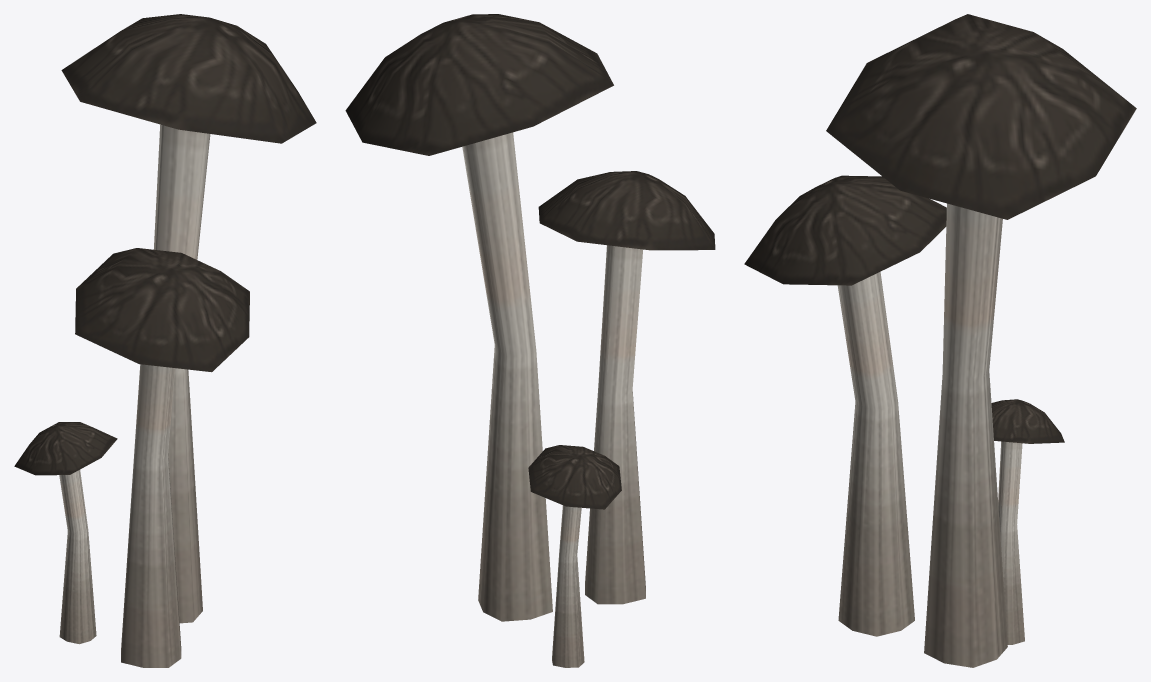
The model's file is farm_mushroom_2.fbx.
3 views of the same model, side by side, from view 1: azimuth 30°, elevation 25°; view 2: azimuth 150°, elevation 25°; view 3: azimuth 270°, elevation 25° (orthographic). The views are drawn at different scales.
Parts seen in each view (by area): view 1: CA_OPE_Props_Fazenda_Cogumelo_002_B, CA_OPE_Props_Fazenda_Cogumelo_002_A, CA_OPE_Props_Fazenda_Cogumelo_002_C; view 2: CA_OPE_Props_Fazenda_Cogumelo_002_B, CA_OPE_Props_Fazenda_Cogumelo_002_A, CA_OPE_Props_Fazenda_Cogumelo_002_C; view 3: CA_OPE_Props_Fazenda_Cogumelo_002_B, CA_OPE_Props_Fazenda_Cogumelo_002_A, CA_OPE_Props_Fazenda_Cogumelo_002_C.
Boxes of the visible parts, x1,y1,x2,y2 form: CA_OPE_Props_Fazenda_Cogumelo_002_B: (61,14,316,623); CA_OPE_Props_Fazenda_Cogumelo_002_A: (75,248,249,667); CA_OPE_Props_Fazenda_Cogumelo_002_C: (14,422,117,644); CA_OPE_Props_Fazenda_Cogumelo_002_B: (345,14,613,621); CA_OPE_Props_Fazenda_Cogumelo_002_A: (538,171,715,604); CA_OPE_Props_Fazenda_Cogumelo_002_C: (528,445,621,667); CA_OPE_Props_Fazenda_Cogumelo_002_B: (826,14,1136,667); CA_OPE_Props_Fazenda_Cogumelo_002_A: (744,175,946,636); CA_OPE_Props_Fazenda_Cogumelo_002_C: (991,399,1064,644).
Bounding box in the file's own units: 1.39 × 2.69 × 1.47.
